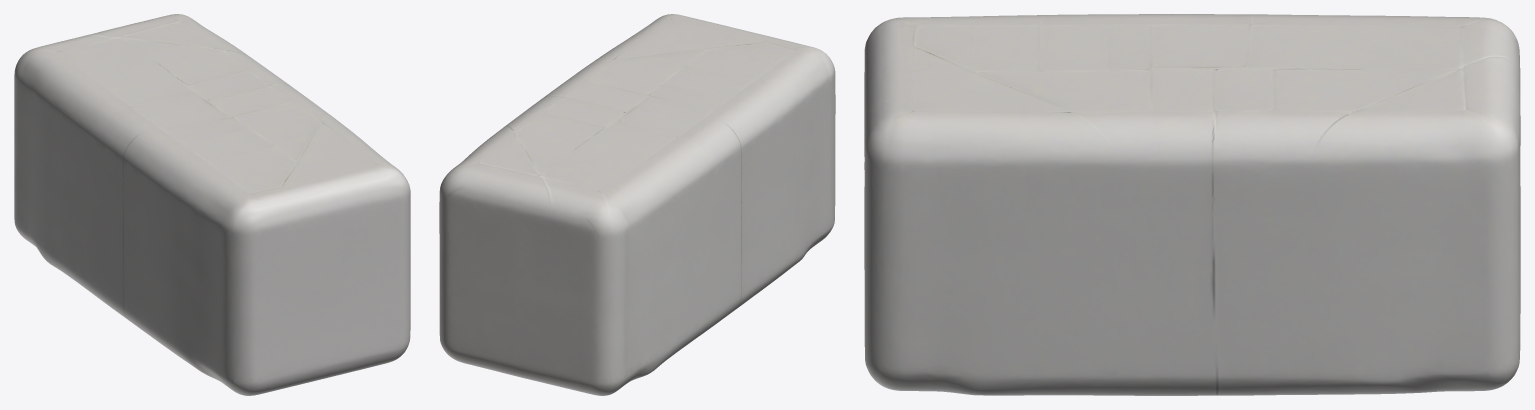
File: fbx_01998fc6-6804-7cff-91f7-583ca684ad70_d24788964c83.fbx
3 views of the same model, side by side, from view 1: azimuth 30°, elevation 25°; view 2: azimuth 150°, elevation 25°; view 3: azimuth 270°, elevation 25° (orthographic). The views are drawn at different scales.
Visible parts, largest first — view 1: input; view 2: input; view 3: input.
Part boxes in pixels (<box>): input: <box>14,14,410,395</box>; input: <box>439,14,835,395</box>; input: <box>864,14,1520,395</box>.
Size of the model in its own units: 96.59 by 93 by 200.
1 material, 1 textured.
